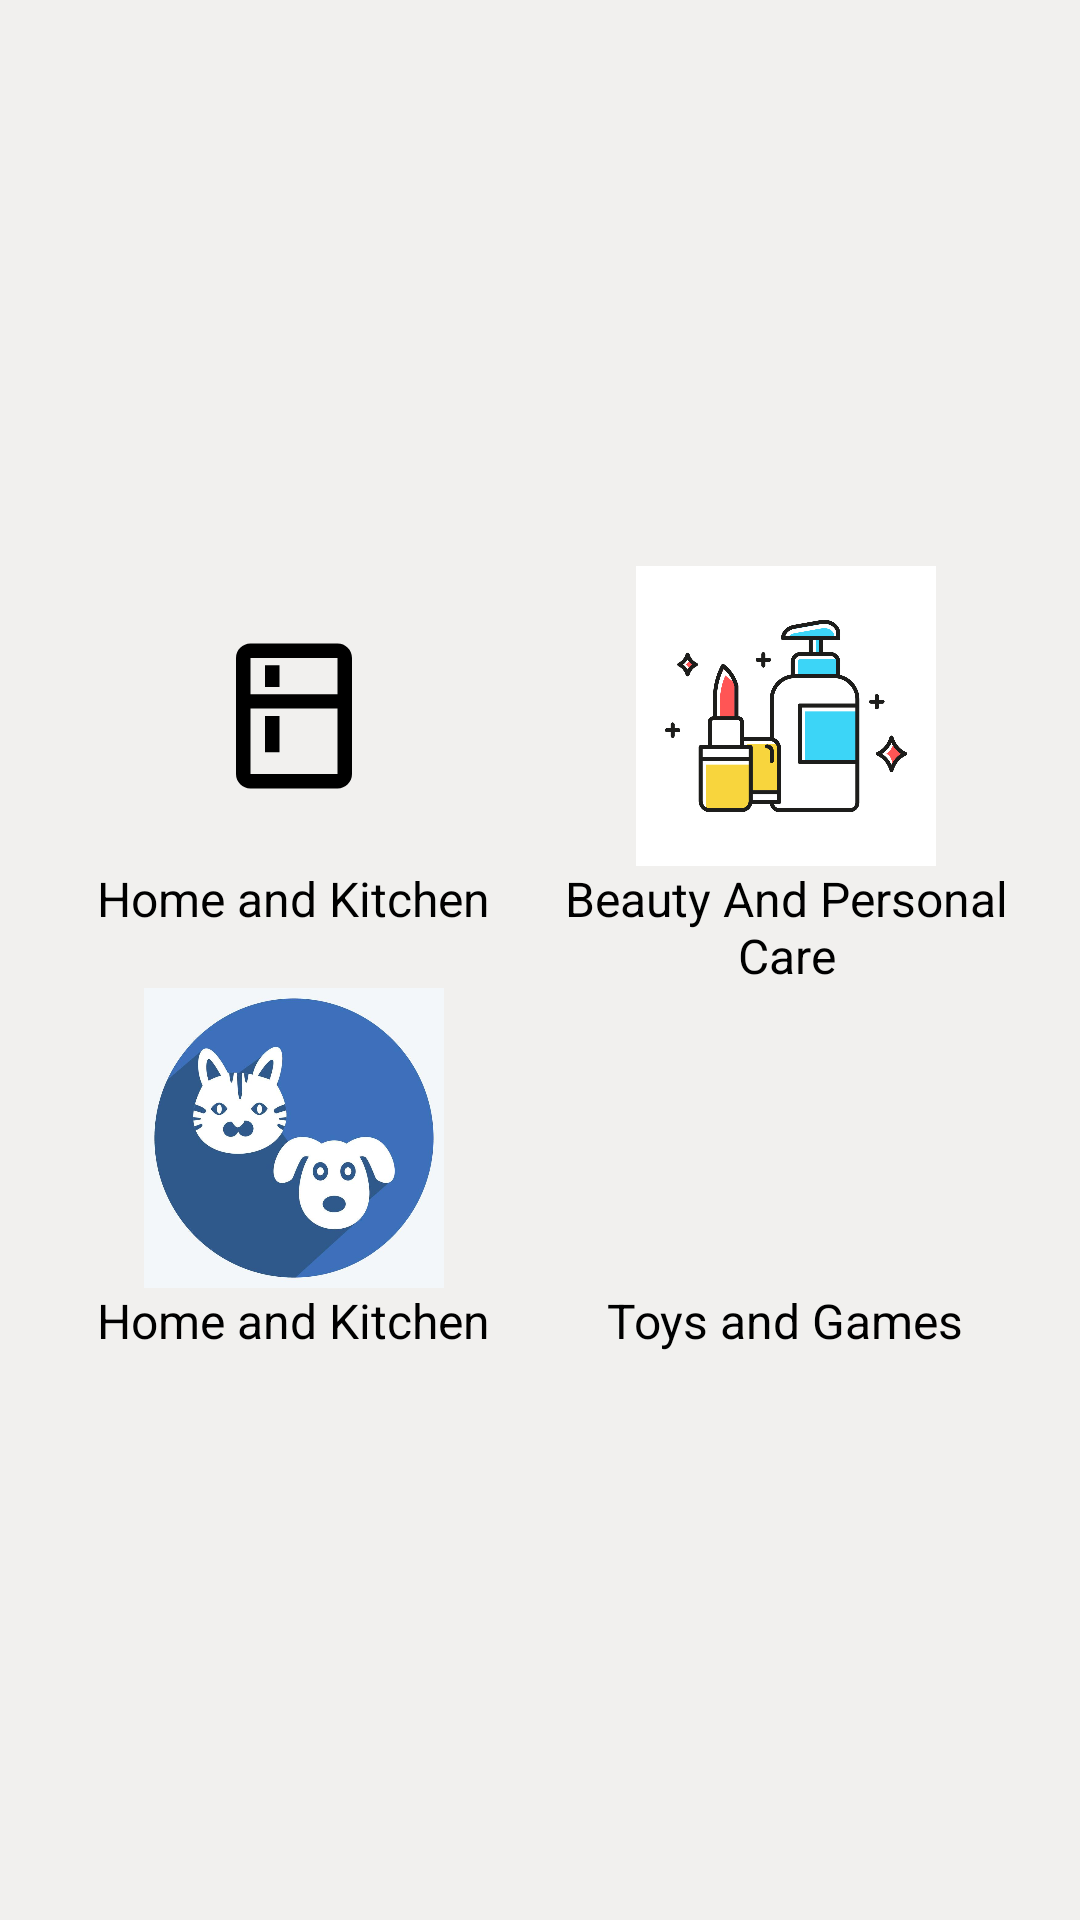

Icon bounding boxes for this 1080 x 1920 phone screenshot, format BBox(x1, y1, x2, y2):
pets: BBox(154, 998, 434, 1278)
